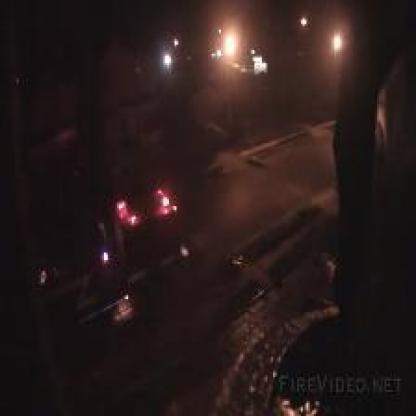other: (104, 193, 191, 226), (202, 20, 254, 72), (292, 14, 352, 58), (149, 21, 190, 76)
